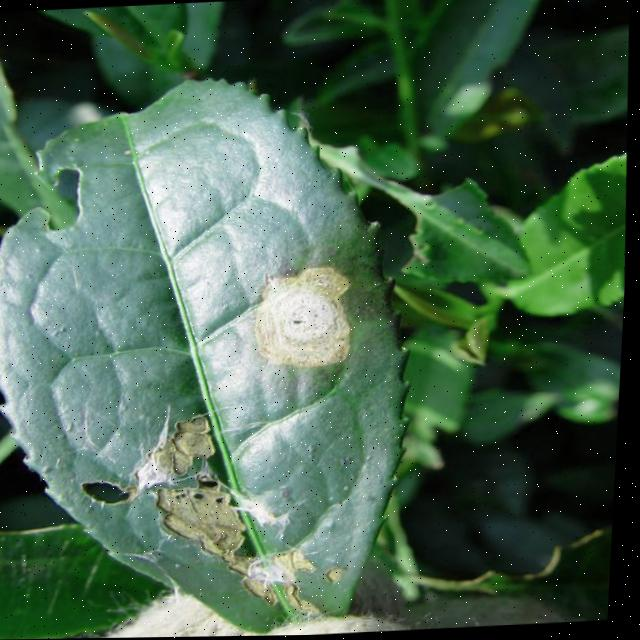Tea cloud leaf blight: (248, 258, 364, 377)
